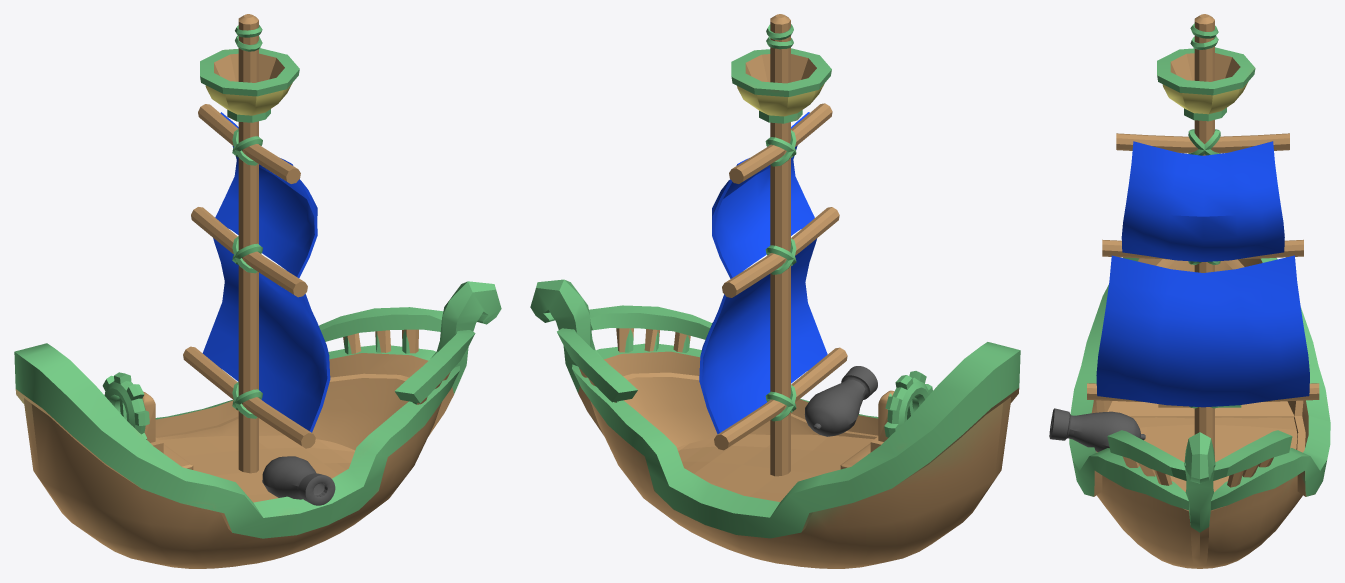
The model's file is Nave  base.fbx.
3 renders of one model, left to right at view 1: azimuth 30°, elevation 25°; view 2: azimuth 150°, elevation 25°; view 3: azimuth 270°, elevation 25°, orthographic. The views are drawn at different scales.
Visible parts, largest first — view 1: nave base; view 2: nave base; view 3: nave base.
Part boxes in pixels (x1,y1,x2,y2): nave base: (14, 14, 501, 568); nave base: (530, 14, 1020, 568); nave base: (1049, 14, 1330, 568).
Size of the model in its own units: 1433 by 1516 by 742.
